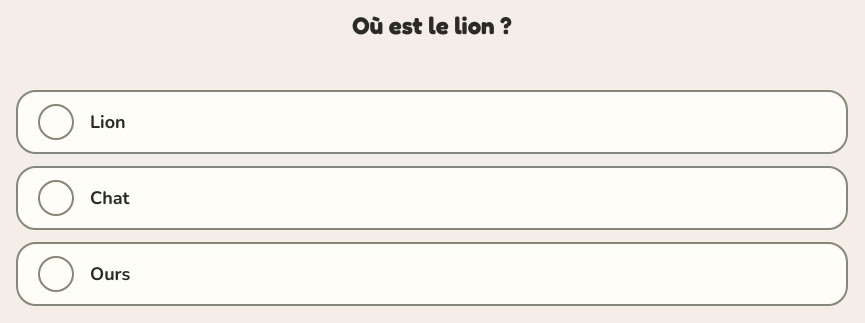
QuizRenderer — pédagogie du QCM › la bonne réponse est confirmée, les boutons se figent, l'événement « complete » part et la suite vient après la pause
Later steps or results of the test are not shown.
Click the button "Ours".
click(56, 274)  # box [16,242,848,306]
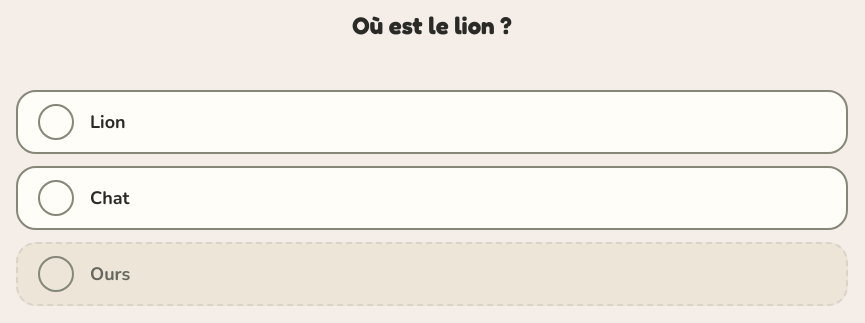
Click the button "Lion".
click(56, 122)  # box [16,90,848,154]
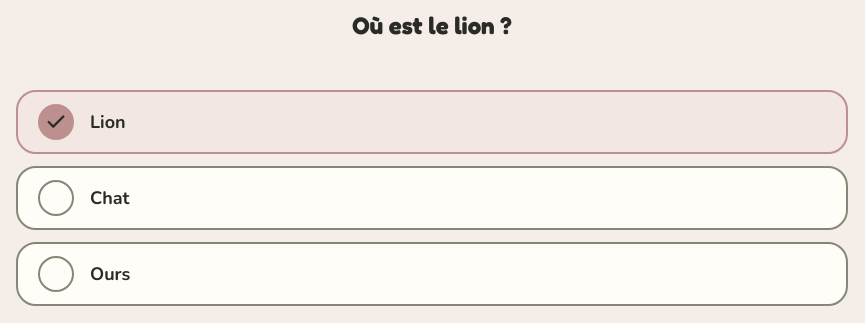
expect the button with aria-label "Lion — bonne réponse" is disabled: met, box [16,90,848,154]
